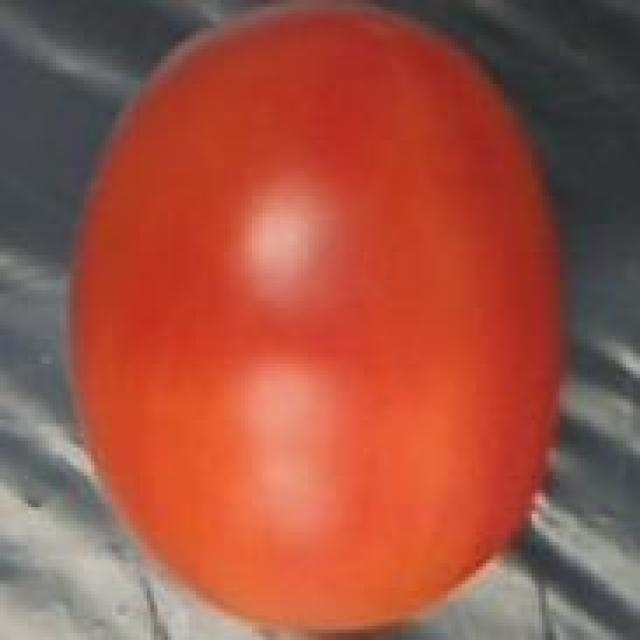ripe tomato: (56, 0, 577, 640)
